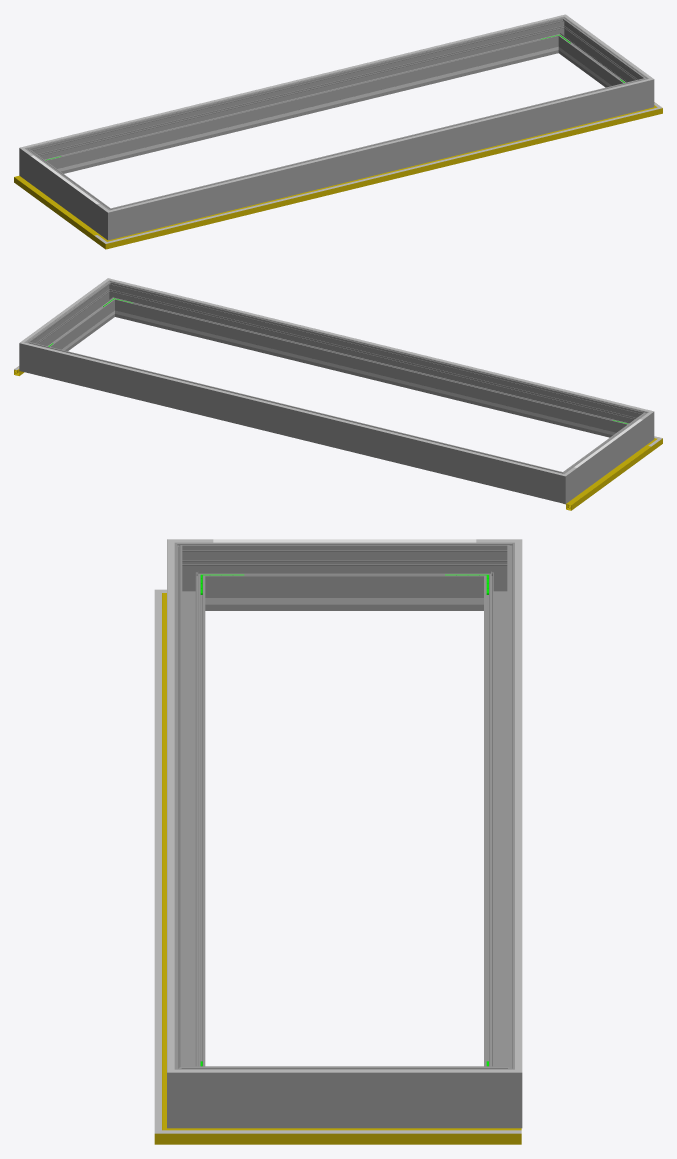
The picture shows the model from 3 angles, top to bottom: view 1: azimuth 30°, elevation 25°; view 2: azimuth 150°, elevation 25°; view 3: azimuth 270°, elevation 25°; orthographic projection. The views are drawn at different scales.
Parts seen in each view (by area): view 1: 3DGeom-278, 3DGeom-300, 3DGeom-11, 3DGeom-299, 3DGeom-270, 3DGeom-246, 3DGeom-20, 3DGeom-318, 3DGeom-306, 3DGeom-272, 3DGeom-6, 3DGeom-292 (+2 smaller); view 2: 3DGeom-300, 3DGeom-278, 3DGeom-299, 3DGeom-270, 3DGeom-241, 3DGeom-306, 3DGeom-318, 3DGeom-280, 3DGeom-6, 3DGeom-286, 3DGeom-292, 3DGeom-272; view 3: 3DGeom-270, 3DGeom-299, 3DGeom-300, 3DGeom-278, 3DGeom-16, 3DGeom-20, 3DGeom-318, 3DGeom-306, 3DGeom-286, 3DGeom-292, 3DGeom-11, 3DGeom-280 (+5 smaller).
Part boxes in pixels (<box>): 3DGeom-278: <box>41,20,555,173</box>; 3DGeom-300: <box>124,81,634,235</box>; 3DGeom-11: <box>123,111,642,244</box>; 3DGeom-299: <box>560,23,639,87</box>; 3DGeom-270: <box>30,154,102,231</box>; 3DGeom-246: <box>64,51,539,170</box>; 3DGeom-20: <box>124,111,642,238</box>; 3DGeom-318: <box>126,83,633,207</box>; 3DGeom-306: <box>39,19,546,143</box>; 3DGeom-272: <box>96,203,127,240</box>; 3DGeom-6: <box>14,175,98,240</box>; 3DGeom-292: <box>631,72,654,111</box>; 3DGeom-300: <box>118,284,632,437</box>; 3DGeom-278: <box>39,345,549,499</box>; 3DGeom-299: <box>34,287,112,351</box>; 3DGeom-270: <box>571,418,642,495</box>; 3DGeom-241: <box>134,315,608,433</box>; 3DGeom-306: <box>39,346,547,471</box>; 3DGeom-318: <box>126,283,633,407</box>; 3DGeom-280: <box>545,466,577,503</box>; 3DGeom-6: <box>563,445,651,510</box>; 3DGeom-286: <box>19,335,42,375</box>; 3DGeom-292: <box>99,280,125,317</box>; 3DGeom-272: <box>625,408,654,447</box>; 3DGeom-270: <box>213,542,476,610</box>; 3DGeom-299: <box>213,1066,476,1128</box>; 3DGeom-300: <box>167,559,205,1066</box>; 3DGeom-278: <box>484,559,514,1066</box>; 3DGeom-16: <box>200,1128,521,1144</box>; 3DGeom-20: <box>154,609,161,1113</box>; 3DGeom-318: <box>167,559,174,1053</box>; 3DGeom-306: <box>515,559,522,1053</box>; 3DGeom-286: <box>476,1053,522,1128</box>; 3DGeom-292: <box>167,1053,212,1128</box>; 3DGeom-11: <box>162,609,166,1114</box>; 3DGeom-280: <box>476,542,514,610</box>.
Bounding box in the file's own units: 4.27 × 0.2434 × 1.22.
